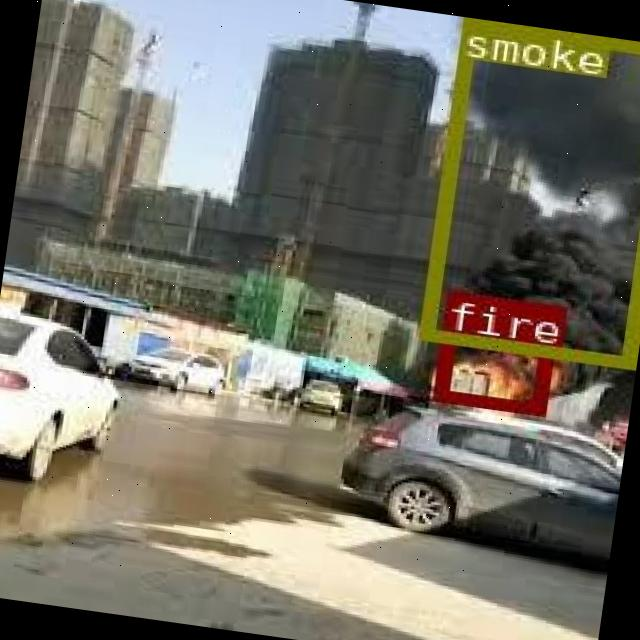fire: (432, 331, 550, 414)
smoke: (415, 16, 640, 364)
